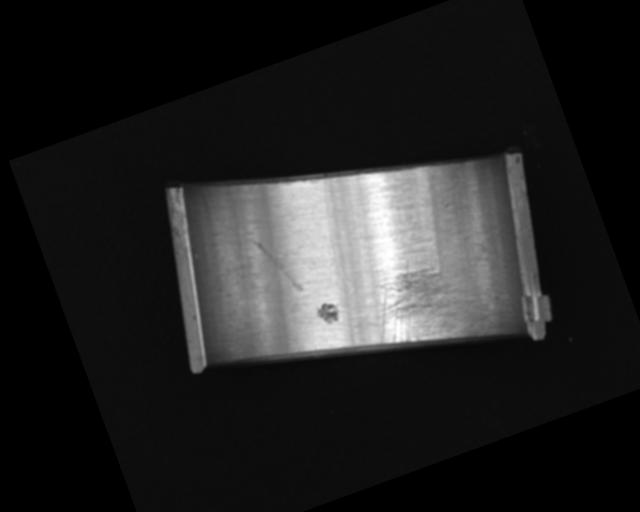bruise: (313, 299, 341, 327)
nick: (306, 177, 364, 293), (251, 228, 303, 302)
scratch: (357, 243, 491, 371)
